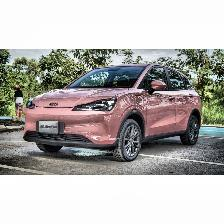EV: (25, 65, 212, 164)
